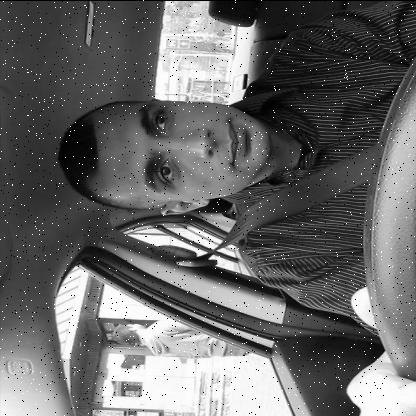seatbelt: (39, 86, 371, 272)
